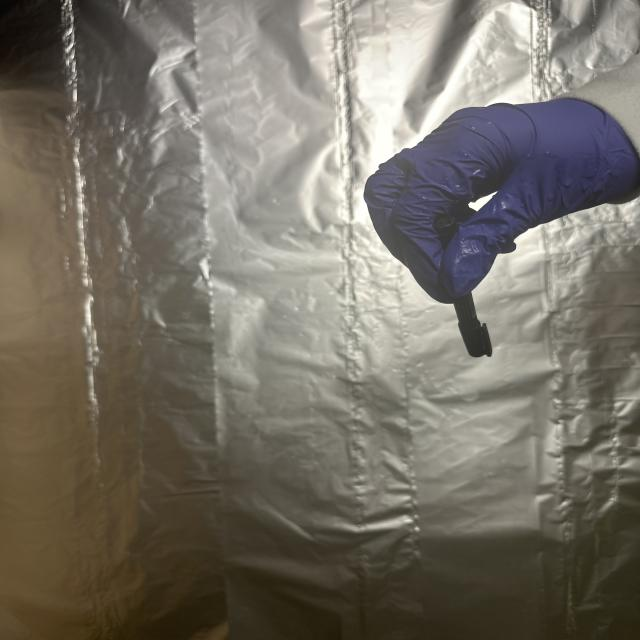gloves_contaminated: (364, 98, 640, 303)
